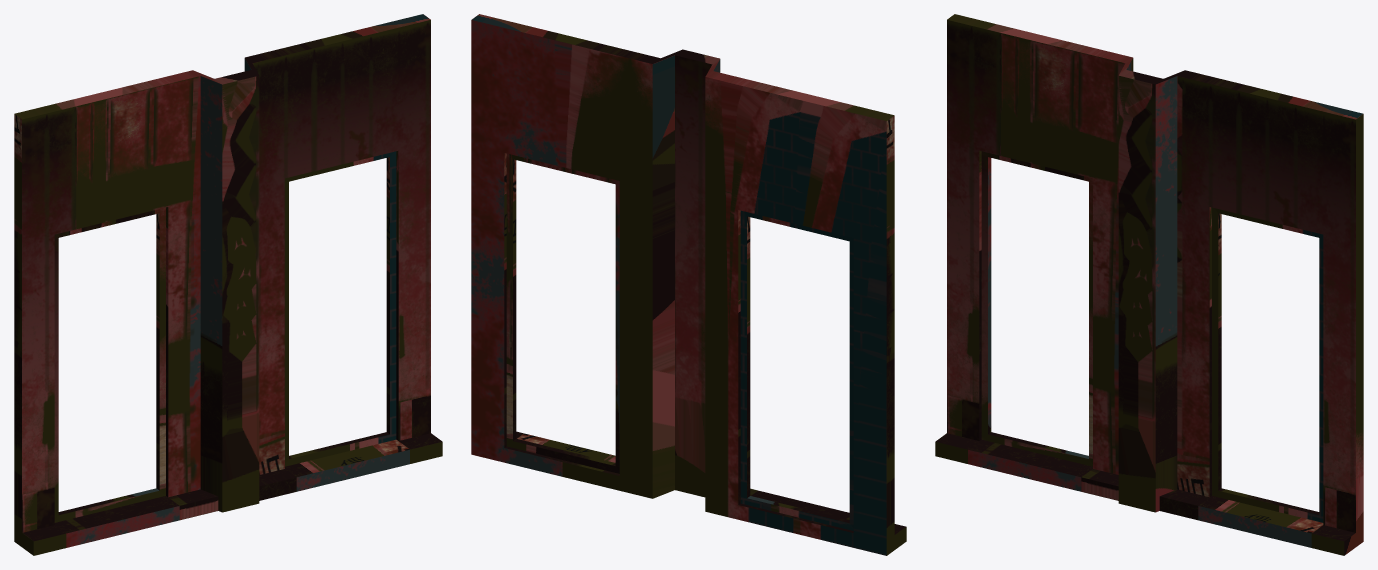
File: PAREDE 3 M 2 JANELAS.fbx
3 views of the same model, side by side, from view 1: azimuth 30°, elevation 25°; view 2: azimuth 150°, elevation 25°; view 3: azimuth 330°, elevation 25° (orthographic).
Parts seen in each view (by area): view 1: Cube.257; view 2: Cube.257; view 3: Cube.257.
Part boxes in pixels (bbox=[...]): Cube.257: bbox=[14, 14, 442, 555]; Cube.257: bbox=[471, 14, 906, 555]; Cube.257: bbox=[935, 14, 1363, 555].
Bounding box in the file's own units: 300 × 300 × 28.18.
